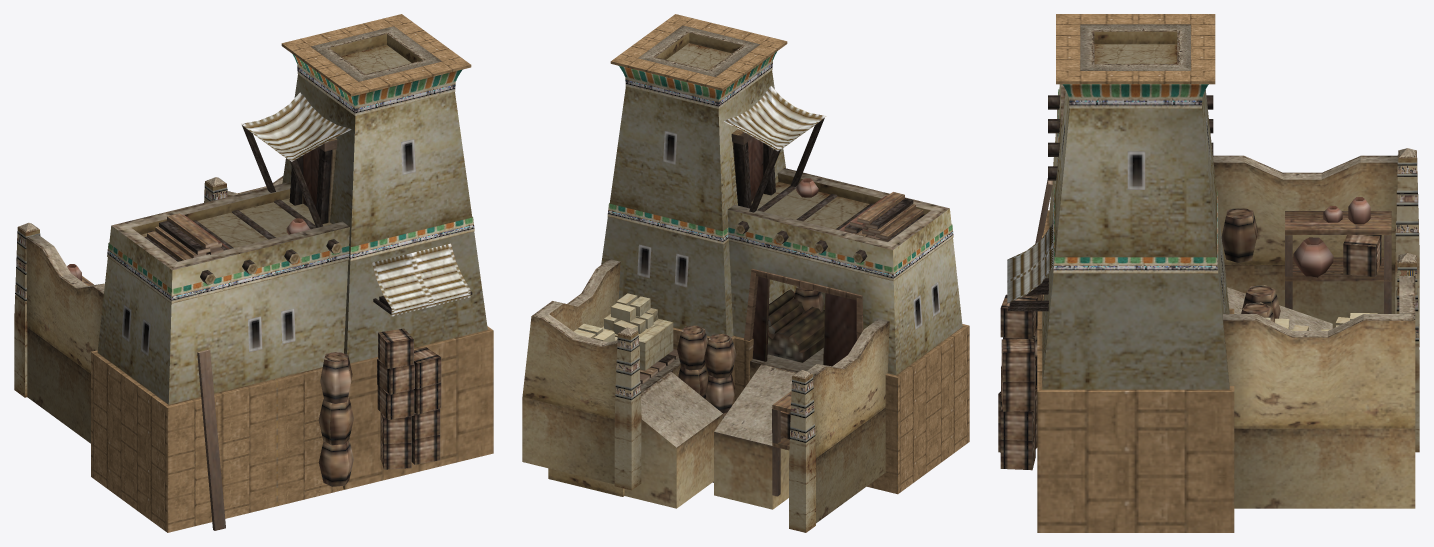
The model's file is ptol_storehouse.glb.
3 renders of one model, left to right at view 1: azimuth 30°, elevation 25°; view 2: azimuth 150°, elevation 25°; view 3: azimuth 270°, elevation 25°, orthographic. The views are drawn at different scales.
Visible parts, largest first — view 1: ptol_storehouse_part0; view 2: ptol_storehouse_part0; view 3: ptol_storehouse_part0.
Boxes of the visible parts, box(x1,y1,x2,y2) form: ptol_storehouse_part0: box(14, 14, 493, 532); ptol_storehouse_part0: box(522, 14, 969, 532); ptol_storehouse_part0: box(998, 14, 1419, 532).
Size of the model in its own units: 3.4 by 4.02 by 3.34.
1 material, 1 textured.
